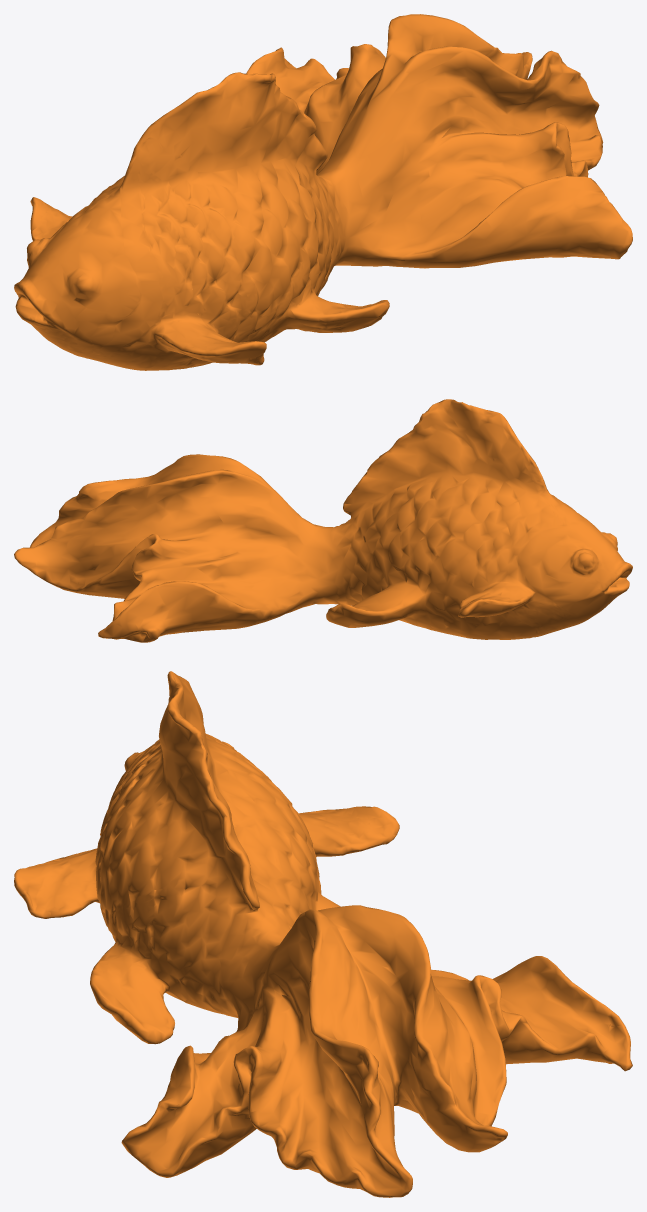
The model's file is fish_3.glb.
3 renders of one model, top to bottom at view 1: azimuth 30°, elevation 25°; view 2: azimuth 150°, elevation 25°; view 3: azimuth 270°, elevation 25°, orthographic. The views are drawn at different scales.
Visible parts, largest first — view 1: Object_2; view 2: Object_2; view 3: Object_2.
Boxes of the visible parts, x1,y1,x2,y2 form: Object_2: (14,14,632,370); Object_2: (14,399,632,642); Object_2: (14,671,632,1197).
Bounding box in the file's own units: 231 × 89.44 × 168.
